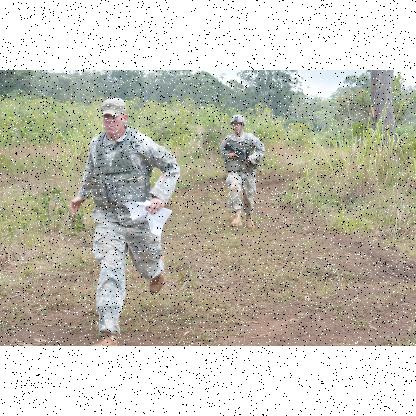gun: (224, 142, 262, 172)
